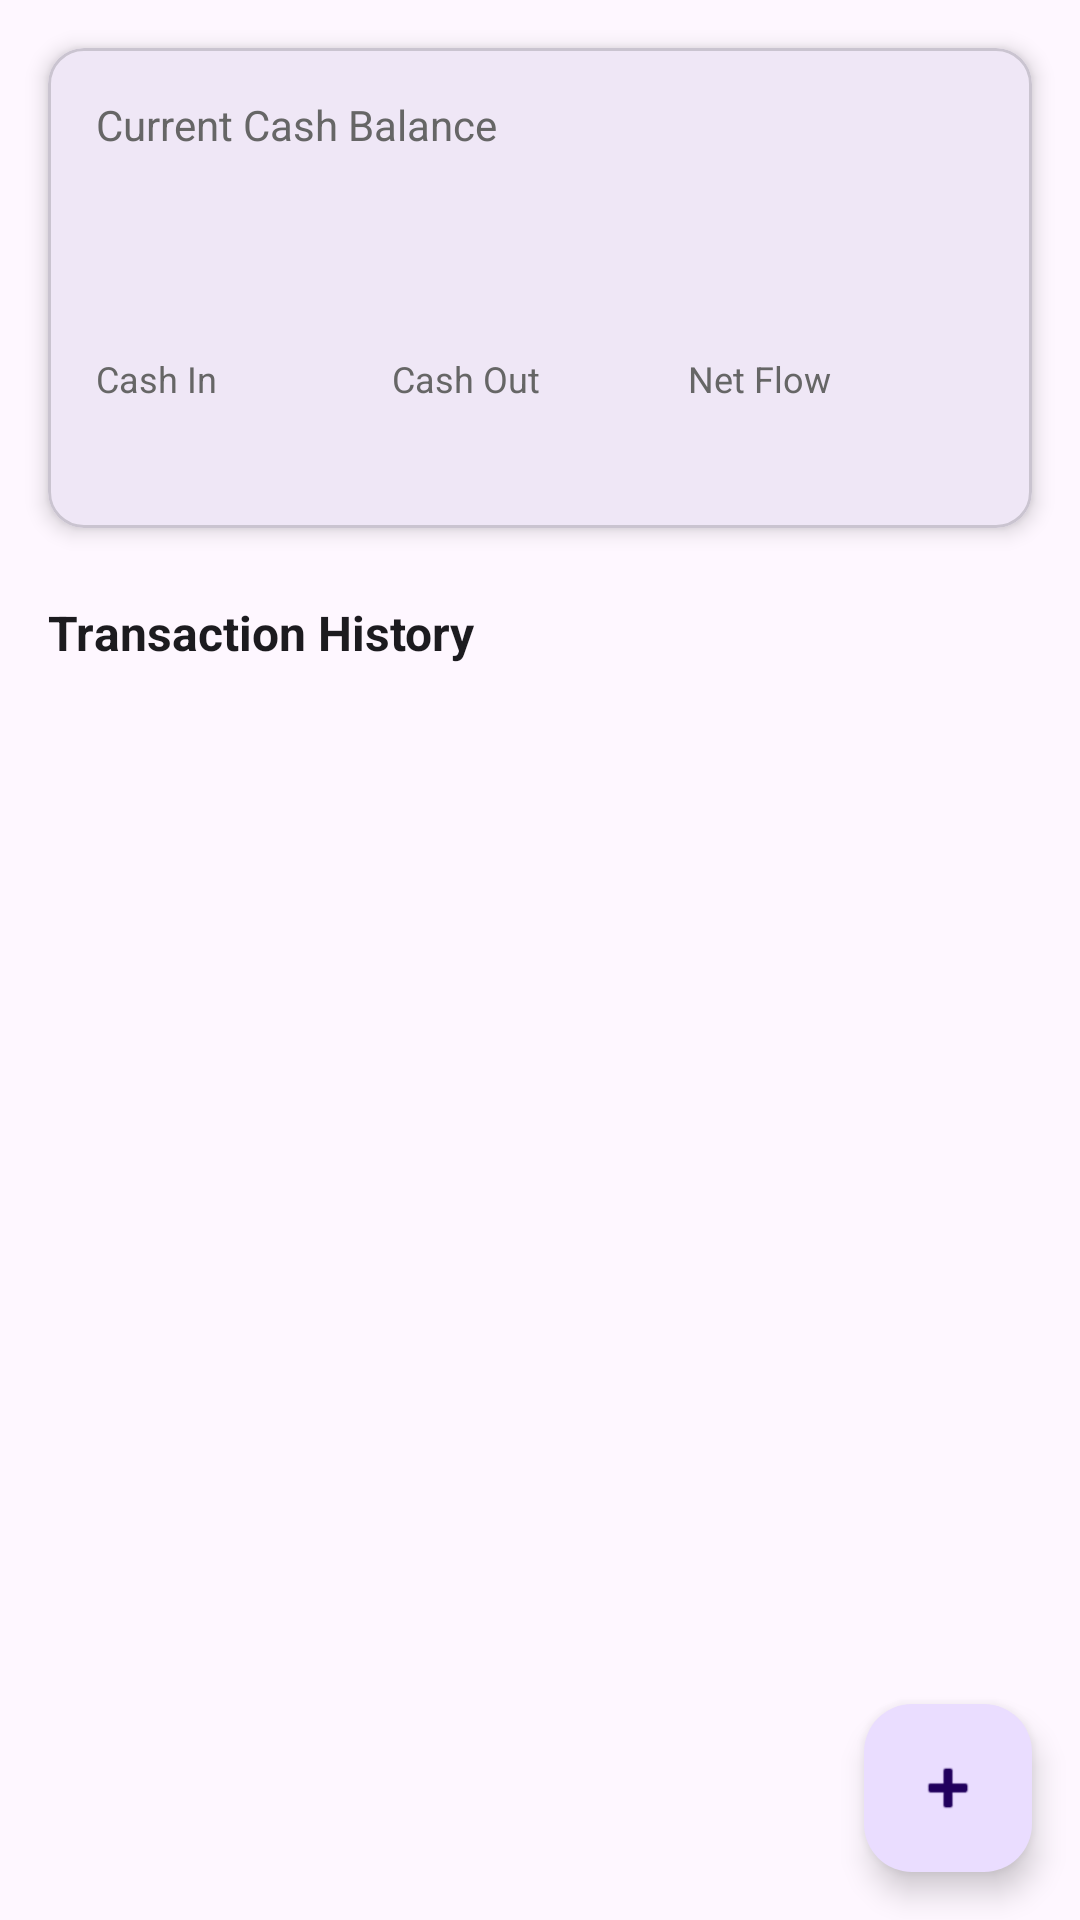

Named icons in this screenshot (1080 × 1920) and their centers, point (x, y):
Add Transaction: point (948, 1788)
